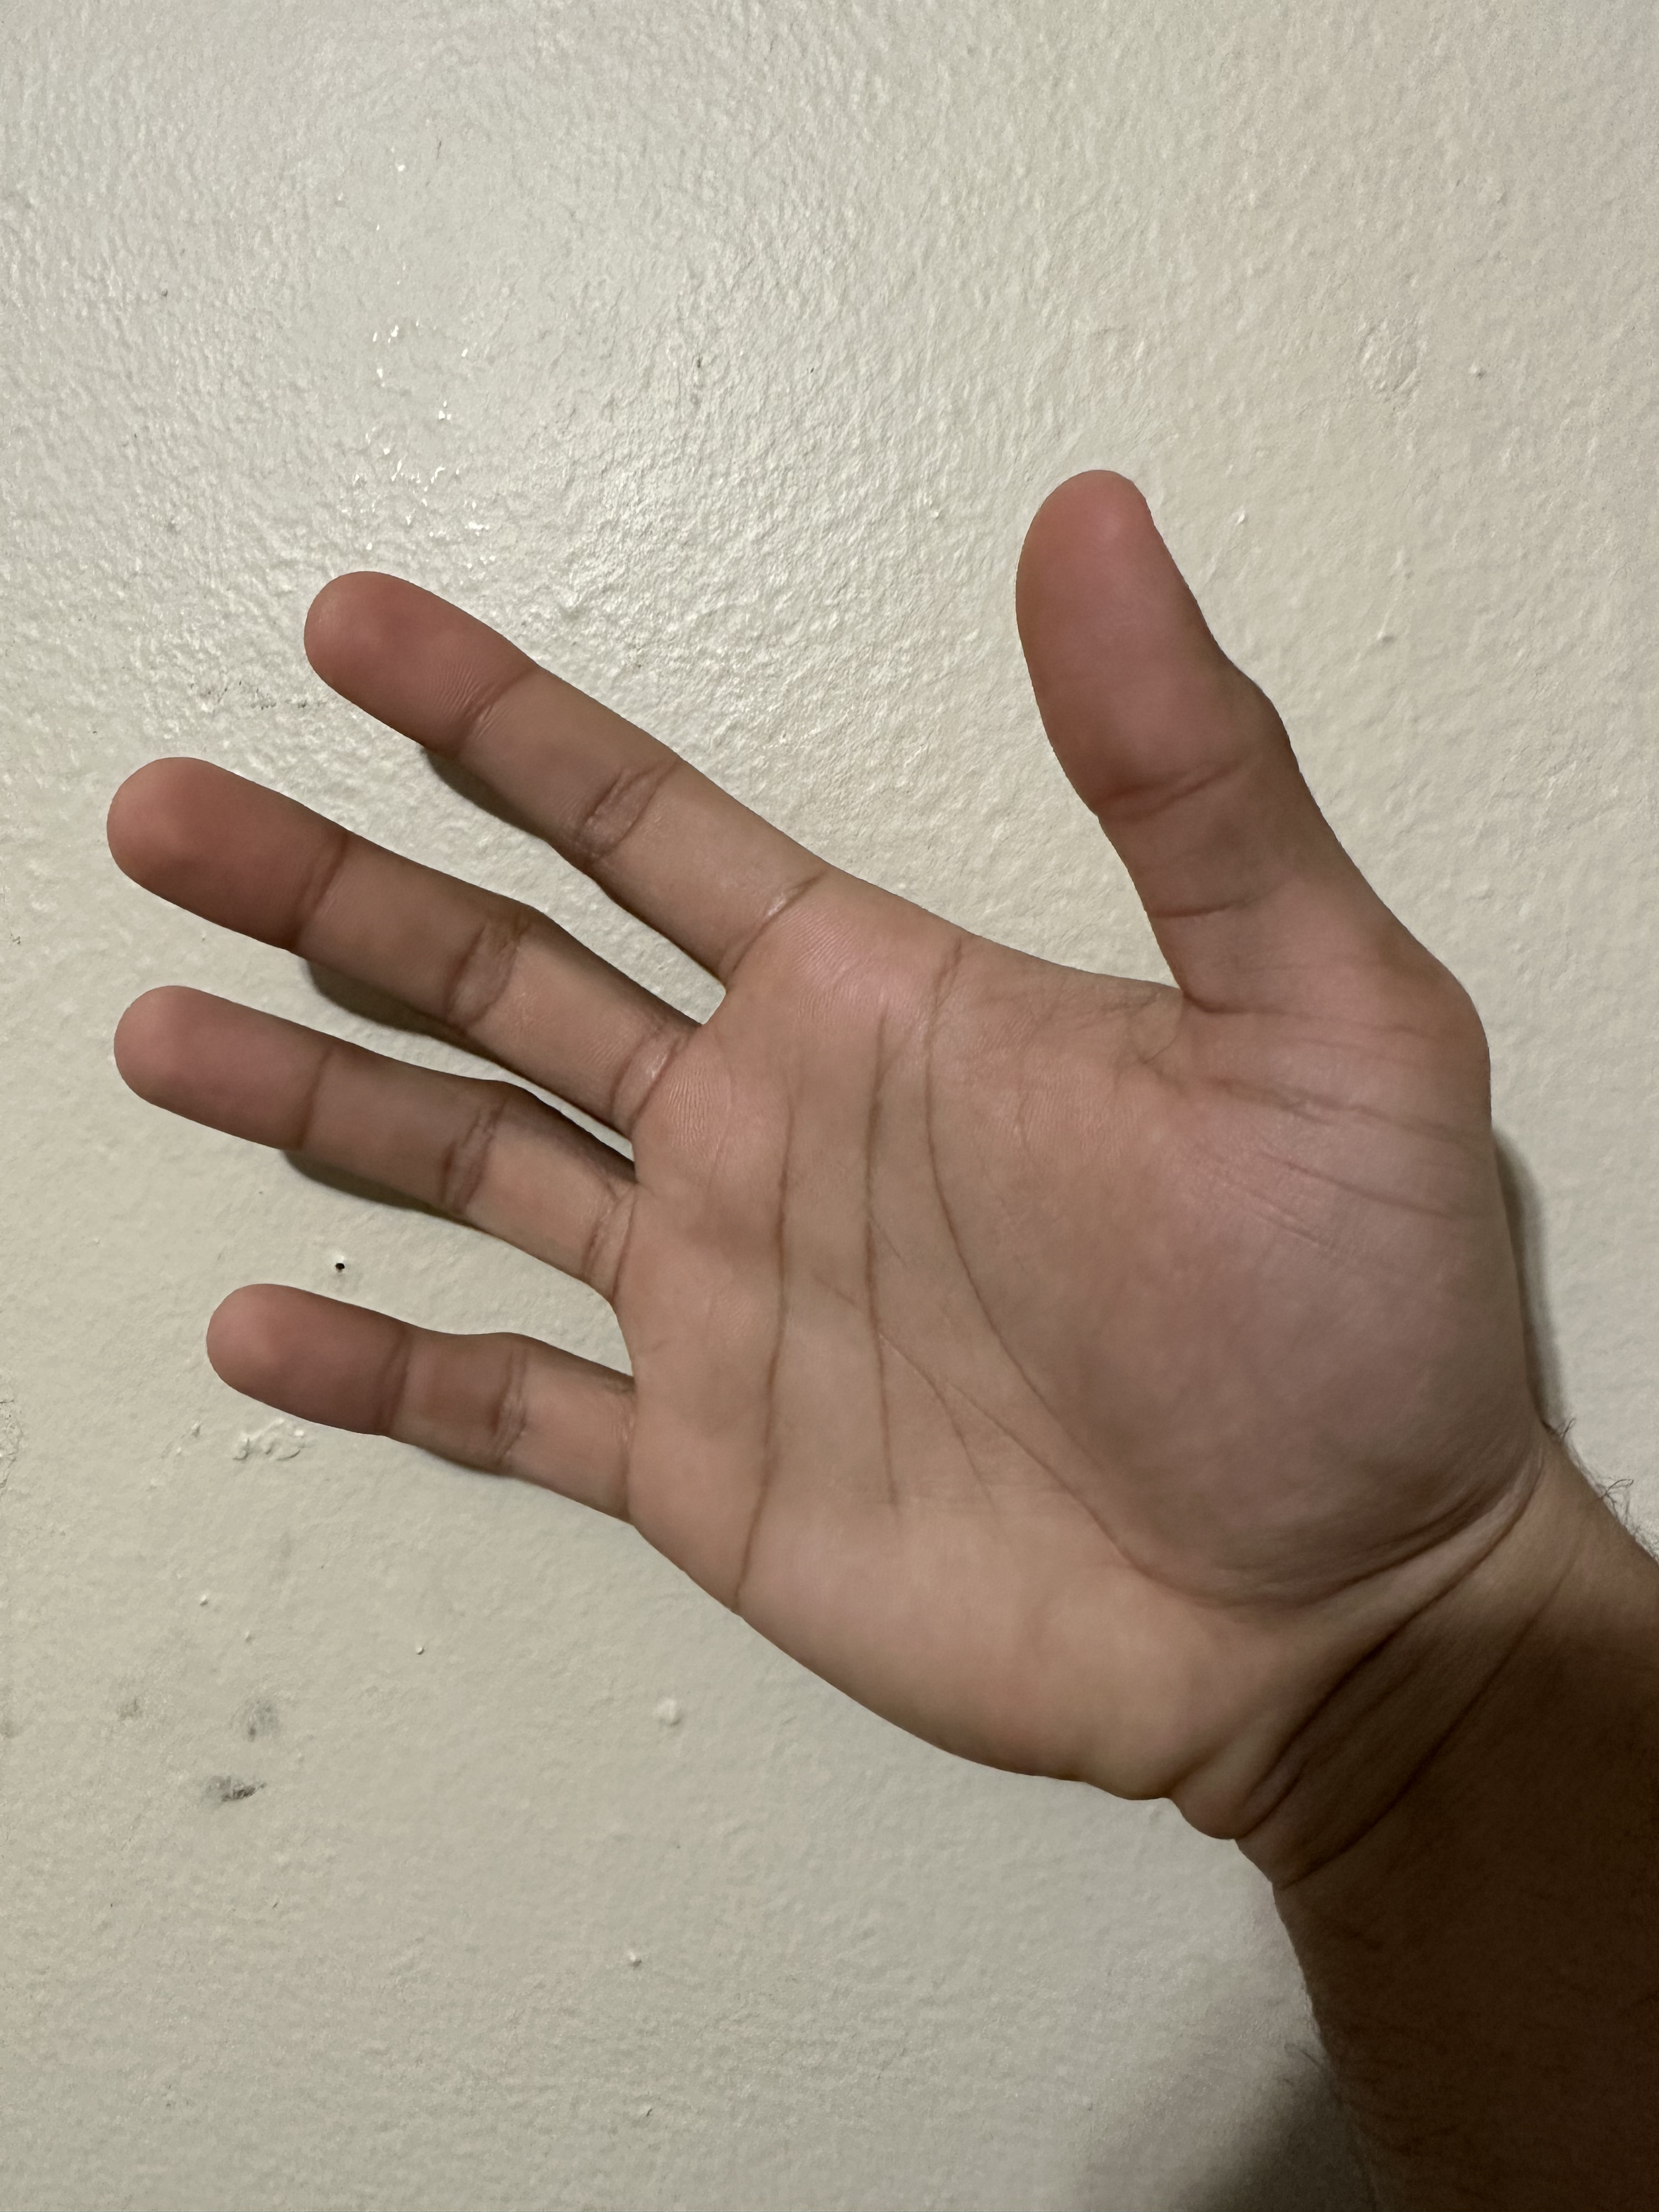finger: (978, 432, 1270, 777), (61, 733, 343, 953), (265, 538, 538, 749), (64, 977, 338, 1160), (183, 1263, 420, 1449)
